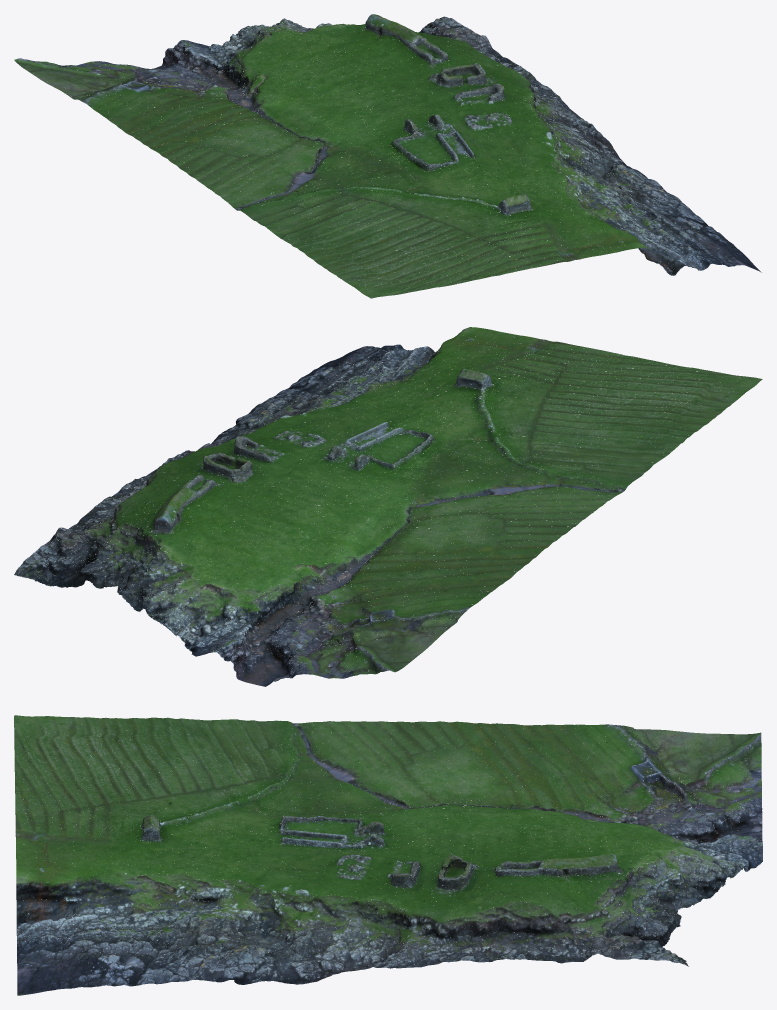
Rendered from groth.glb.
The picture shows the model from 3 angles, top to bottom: view 1: azimuth 30°, elevation 25°; view 2: azimuth 150°, elevation 25°; view 3: azimuth 270°, elevation 25°; orthographic projection. The views are drawn at different scales.
Parts seen in each view (by area): view 1: Mesh_0; view 2: Mesh_0; view 3: Mesh_0.
Boxes of the visible parts, x1,y1,x2,y2 form: Mesh_0: (14,14,761,298); Mesh_0: (14,327,762,686); Mesh_0: (14,715,762,995).
Size of the model in its own units: 77.74 by 15.14 by 119.
Materials: 1 (1 with a texture image).
